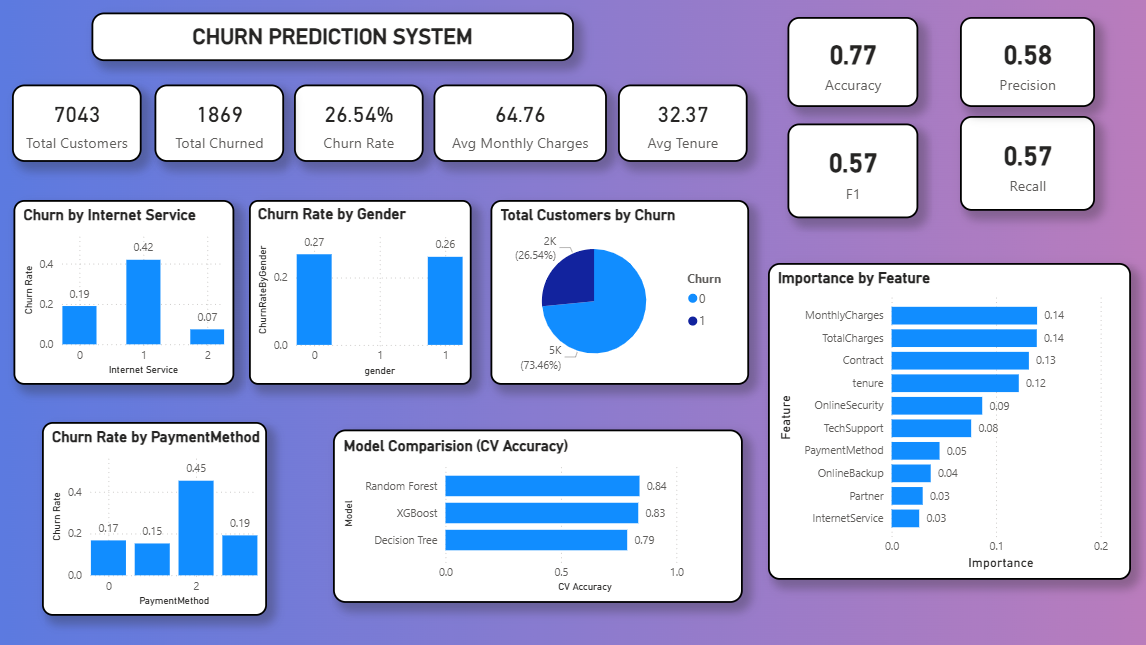

Layout of this report page (visuals, bound fields, positions):
{"tool":"powerbi","page":{"name":"Page 1","canvas":[1280,720],"ordinal":0},"visuals":[{"type":"card","fields":{"Values":["cleaned_telco_churn.TotalCustomers"]},"box":[572,20,218,112],"z":0},{"type":"card","fields":{"Values":["cleaned_telco_churn.ChurnRate"]},"box":[1040,20,220,112],"z":1000},{"type":"card","fields":{"Values":["cleaned_telco_churn.TotalChurned"]},"box":[806,20,222,112],"z":2000},{"type":"card","fields":{"Values":["cleaned_telco_churn.AvgMonthlyCharges"]},"box":[804,156,224,122],"z":3000},{"type":"card","fields":{"Values":["cleaned_telco_churn.AvgTenure"]},"box":[1040,156,220,122],"z":4000},{"type":"textbox","title":"CHURN PREDICTION SYSTEM","box":[32,20,492,78],"z":5000},{"type":"pieChart","title":"Total Customers by Churn","fields":{"Category":["cleaned_telco_churn.Churn"],"Y":["cleaned_telco_churn.TotalCustomers"]},"box":[32,156,264,218],"z":6000},{"type":"columnChart","title":"Churn Rate by Contract","fields":{"Category":["cleaned_telco_churn.Contract"],"Y":["cleaned_telco_churn.ChurnRateByContract"]},"box":[390,174,330,206],"z":7000},{"type":"clusteredColumnChart","title":"Churn by Internet Service","fields":{"Category":["cleaned_telco_churn.InternetService"],"Y":["cleaned_telco_churn.ChurnRateDecimal"]},"box":[32,422,314,232],"z":8000},{"type":"clusteredColumnChart","fields":{"Category":["cleaned_telco_churn.PaymentMethod"],"Y":["cleaned_telco_churn.ChurnRateDecimal"]},"box":[380,422,386,232],"z":9000},{"type":"clusteredBarChart","title":"Model Comparision (CV Accuracy)","fields":{"Category":["model_results.Model"],"Y":["Sum(model_results.CV Accuracy)"]},"box":[806,360,454,294],"z":10000}]}

Visuals, with their boxes in screenshot pixels (x1, y1, x2, y2), scaled from the page's 1280x720 canvas onto the 1146x645 screenshot:
card - cleaned_telco_churn.TotalCustomers: box(512, 18, 707, 118)
card - cleaned_telco_churn.ChurnRate: box(931, 18, 1128, 118)
card - cleaned_telco_churn.TotalChurned: box(722, 18, 920, 118)
card - cleaned_telco_churn.AvgMonthlyCharges: box(720, 140, 920, 249)
card - cleaned_telco_churn.AvgTenure: box(931, 140, 1128, 249)
"CHURN PREDICTION SYSTEM" textbox: box(29, 18, 469, 88)
"Total Customers by Churn" pieChart: box(29, 140, 265, 335)
"Churn Rate by Contract" columnChart: box(349, 156, 645, 340)
"Churn by Internet Service" clusteredColumnChart: box(29, 378, 310, 586)
clusteredColumnChart - cleaned_telco_churn.PaymentMethod x cleaned_telco_churn.ChurnRateDecimal: box(340, 378, 686, 586)
"Model Comparision (CV Accuracy)" clusteredBarChart: box(722, 322, 1128, 586)
